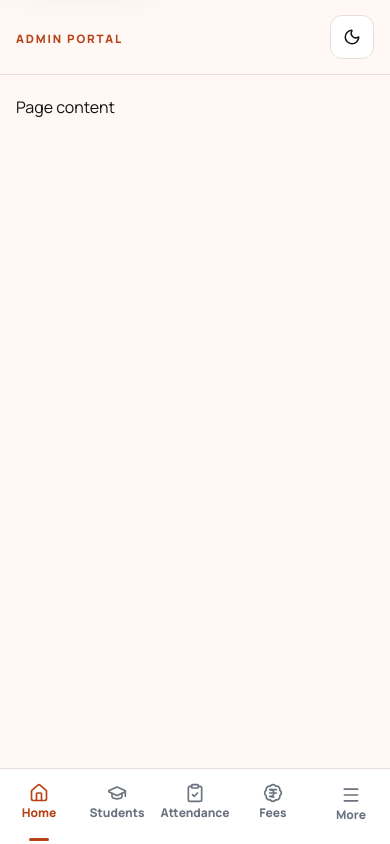
Test: PortalShell mobile navigation › shows four primary Admin links and all remaining options in More
Click the button "More" at (351,806), box [312,769,389,843]
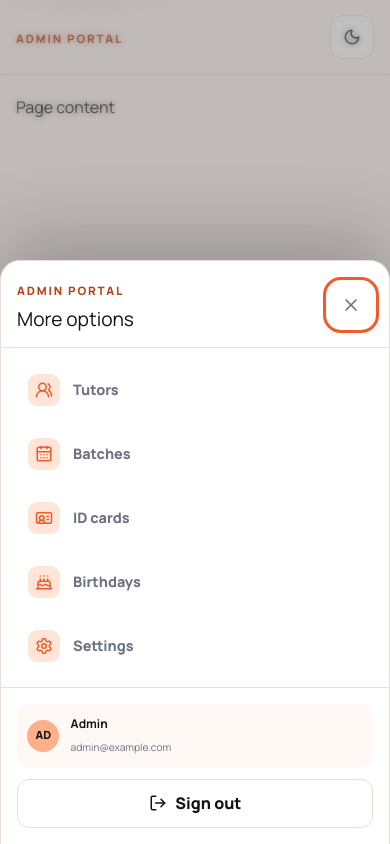
expect the links read "Tutors", "Batches", "ID cards", "Birthdays", "Settings", in this order: met, box [28,374,119,406]; [28,438,131,470]; [28,502,130,534]; [28,566,141,598]; [28,630,134,662]
expect the text "admin@example.com" is shown: met, box [71,740,171,754]
expect the button "Sign out" is shown: met, box [17,779,373,828]
